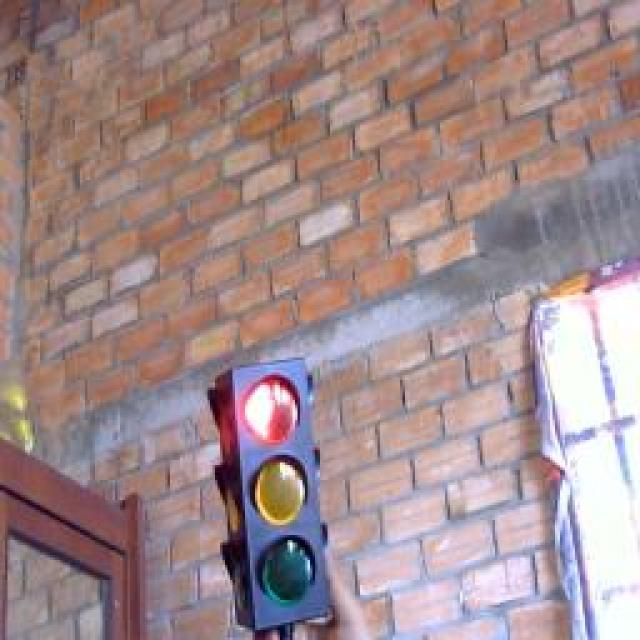-: (234, 365, 314, 452)
